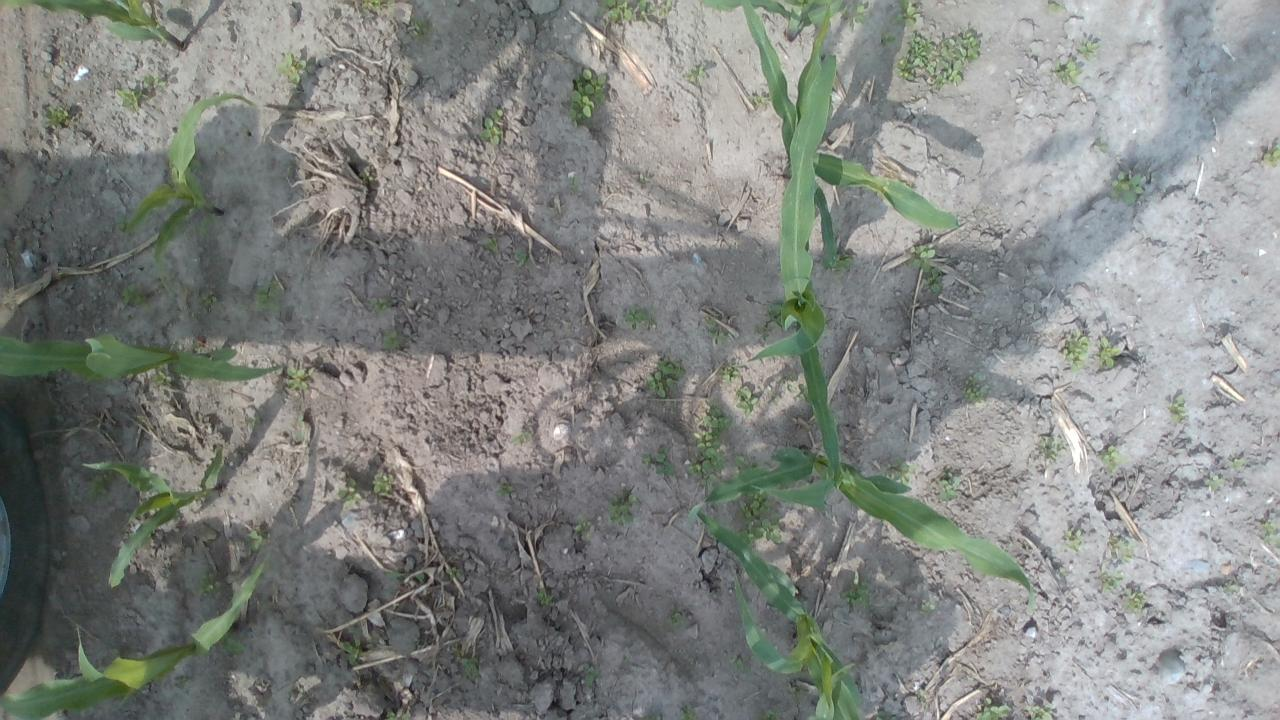Maize: (681, 444, 1041, 618), (737, 0, 962, 266), (747, 6, 842, 500), (0, 547, 267, 720), (694, 508, 868, 720), (119, 91, 260, 301), (82, 446, 222, 586), (0, 327, 286, 384), (0, 0, 185, 52), (694, 0, 846, 41)
Weeds: (892, 27, 982, 92), (684, 402, 734, 488), (736, 490, 784, 548), (565, 68, 609, 130), (908, 241, 944, 294), (646, 356, 686, 398), (838, 572, 873, 610), (120, 282, 156, 318), (1110, 170, 1144, 206), (1062, 330, 1090, 373), (640, 444, 676, 477), (274, 51, 309, 84), (606, 492, 638, 527), (342, 632, 374, 666), (836, 0, 870, 31), (253, 279, 282, 314), (877, 458, 916, 484), (480, 107, 505, 146), (333, 477, 363, 509), (962, 371, 991, 404), (970, 698, 1011, 720), (890, 0, 921, 29), (1038, 434, 1069, 463), (1094, 336, 1122, 368), (624, 306, 658, 332), (936, 465, 961, 500), (702, 315, 731, 345), (196, 570, 228, 596), (1109, 534, 1136, 564), (1099, 564, 1124, 596), (1052, 60, 1082, 86), (735, 386, 760, 417), (284, 366, 316, 390), (598, 0, 634, 21), (1101, 444, 1128, 472), (637, 0, 674, 19), (114, 87, 142, 112), (1025, 699, 1058, 720), (86, 472, 110, 500), (44, 105, 72, 129), (826, 252, 854, 276), (1124, 588, 1149, 614), (572, 513, 594, 542), (1166, 394, 1188, 423), (1075, 36, 1100, 61), (242, 528, 268, 552), (1260, 518, 1280, 549), (679, 66, 708, 87), (763, 299, 783, 328), (408, 18, 432, 42), (384, 570, 424, 584), (380, 328, 404, 351), (369, 470, 393, 493), (1064, 528, 1085, 552), (794, 382, 814, 407), (664, 607, 686, 629), (776, 370, 798, 391), (458, 656, 479, 678), (361, 0, 396, 13), (730, 655, 751, 676), (719, 362, 740, 383), (787, 683, 807, 705), (150, 366, 173, 385), (582, 666, 602, 687), (370, 296, 393, 314), (197, 290, 220, 308), (1263, 142, 1280, 166), (536, 588, 556, 608), (142, 72, 166, 88), (747, 94, 772, 109), (734, 455, 759, 470), (514, 250, 534, 268), (1202, 474, 1226, 489), (380, 709, 412, 720), (879, 29, 896, 49), (756, 707, 782, 720), (496, 481, 516, 497), (754, 323, 770, 343), (444, 566, 464, 581), (483, 237, 500, 254), (174, 674, 192, 690), (678, 704, 696, 720), (872, 710, 899, 720), (512, 430, 532, 443), (1228, 457, 1248, 470), (191, 156, 206, 172), (1045, 1, 1063, 14), (920, 599, 936, 613), (1222, 582, 1240, 594), (1091, 142, 1109, 153), (116, 216, 128, 231), (568, 176, 580, 191), (360, 171, 374, 183), (770, 391, 781, 406), (244, 417, 262, 426), (641, 713, 664, 720), (192, 342, 202, 354), (296, 430, 306, 441), (639, 173, 650, 182), (297, 413, 304, 423), (712, 590, 718, 598)
